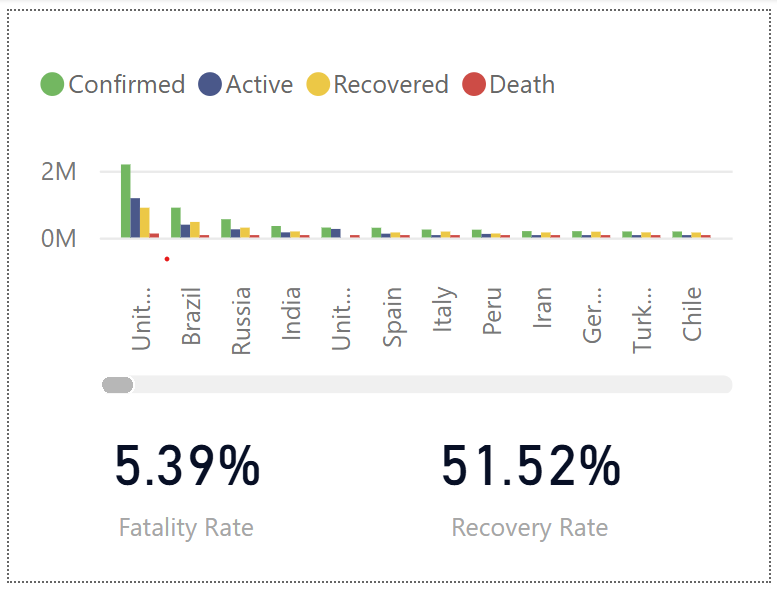

The page's visual inventory and layout, read from the dashboard file:
{"tool":"powerbi","page":{"name":"fatality rate","canvas":[320,240],"ordinal":2},"visuals":[{"type":"clusteredColumnChart","fields":{"Y":["Sum(countries.Confirmed)","Sum(countries.Active)","Sum(countries.Recovered)","Sum(countries.Death)"],"Category":["countries.Country"]},"box":[8,12,302,154],"z":0},{"type":"card","fields":{"Values":["countries.Fatality Rate"]},"box":[15,166,119,63],"z":1000},{"type":"card","fields":{"Values":["countries.Recovery Rate"]},"box":[160,166,119,63],"z":2000}]}

Visuals, with their boxes in screenshot pixels (x1, y1, x2, y2), scaled from the page's 320x240 canvas onto the 777x592 screenshot:
clusteredColumnChart - Sum(countries.Confirmed) x Sum(countries.Active): {"left": 19, "top": 30, "right": 753, "bottom": 409}
card - countries.Fatality Rate: {"left": 36, "top": 409, "right": 325, "bottom": 565}
card - countries.Recovery Rate: {"left": 388, "top": 409, "right": 677, "bottom": 565}
